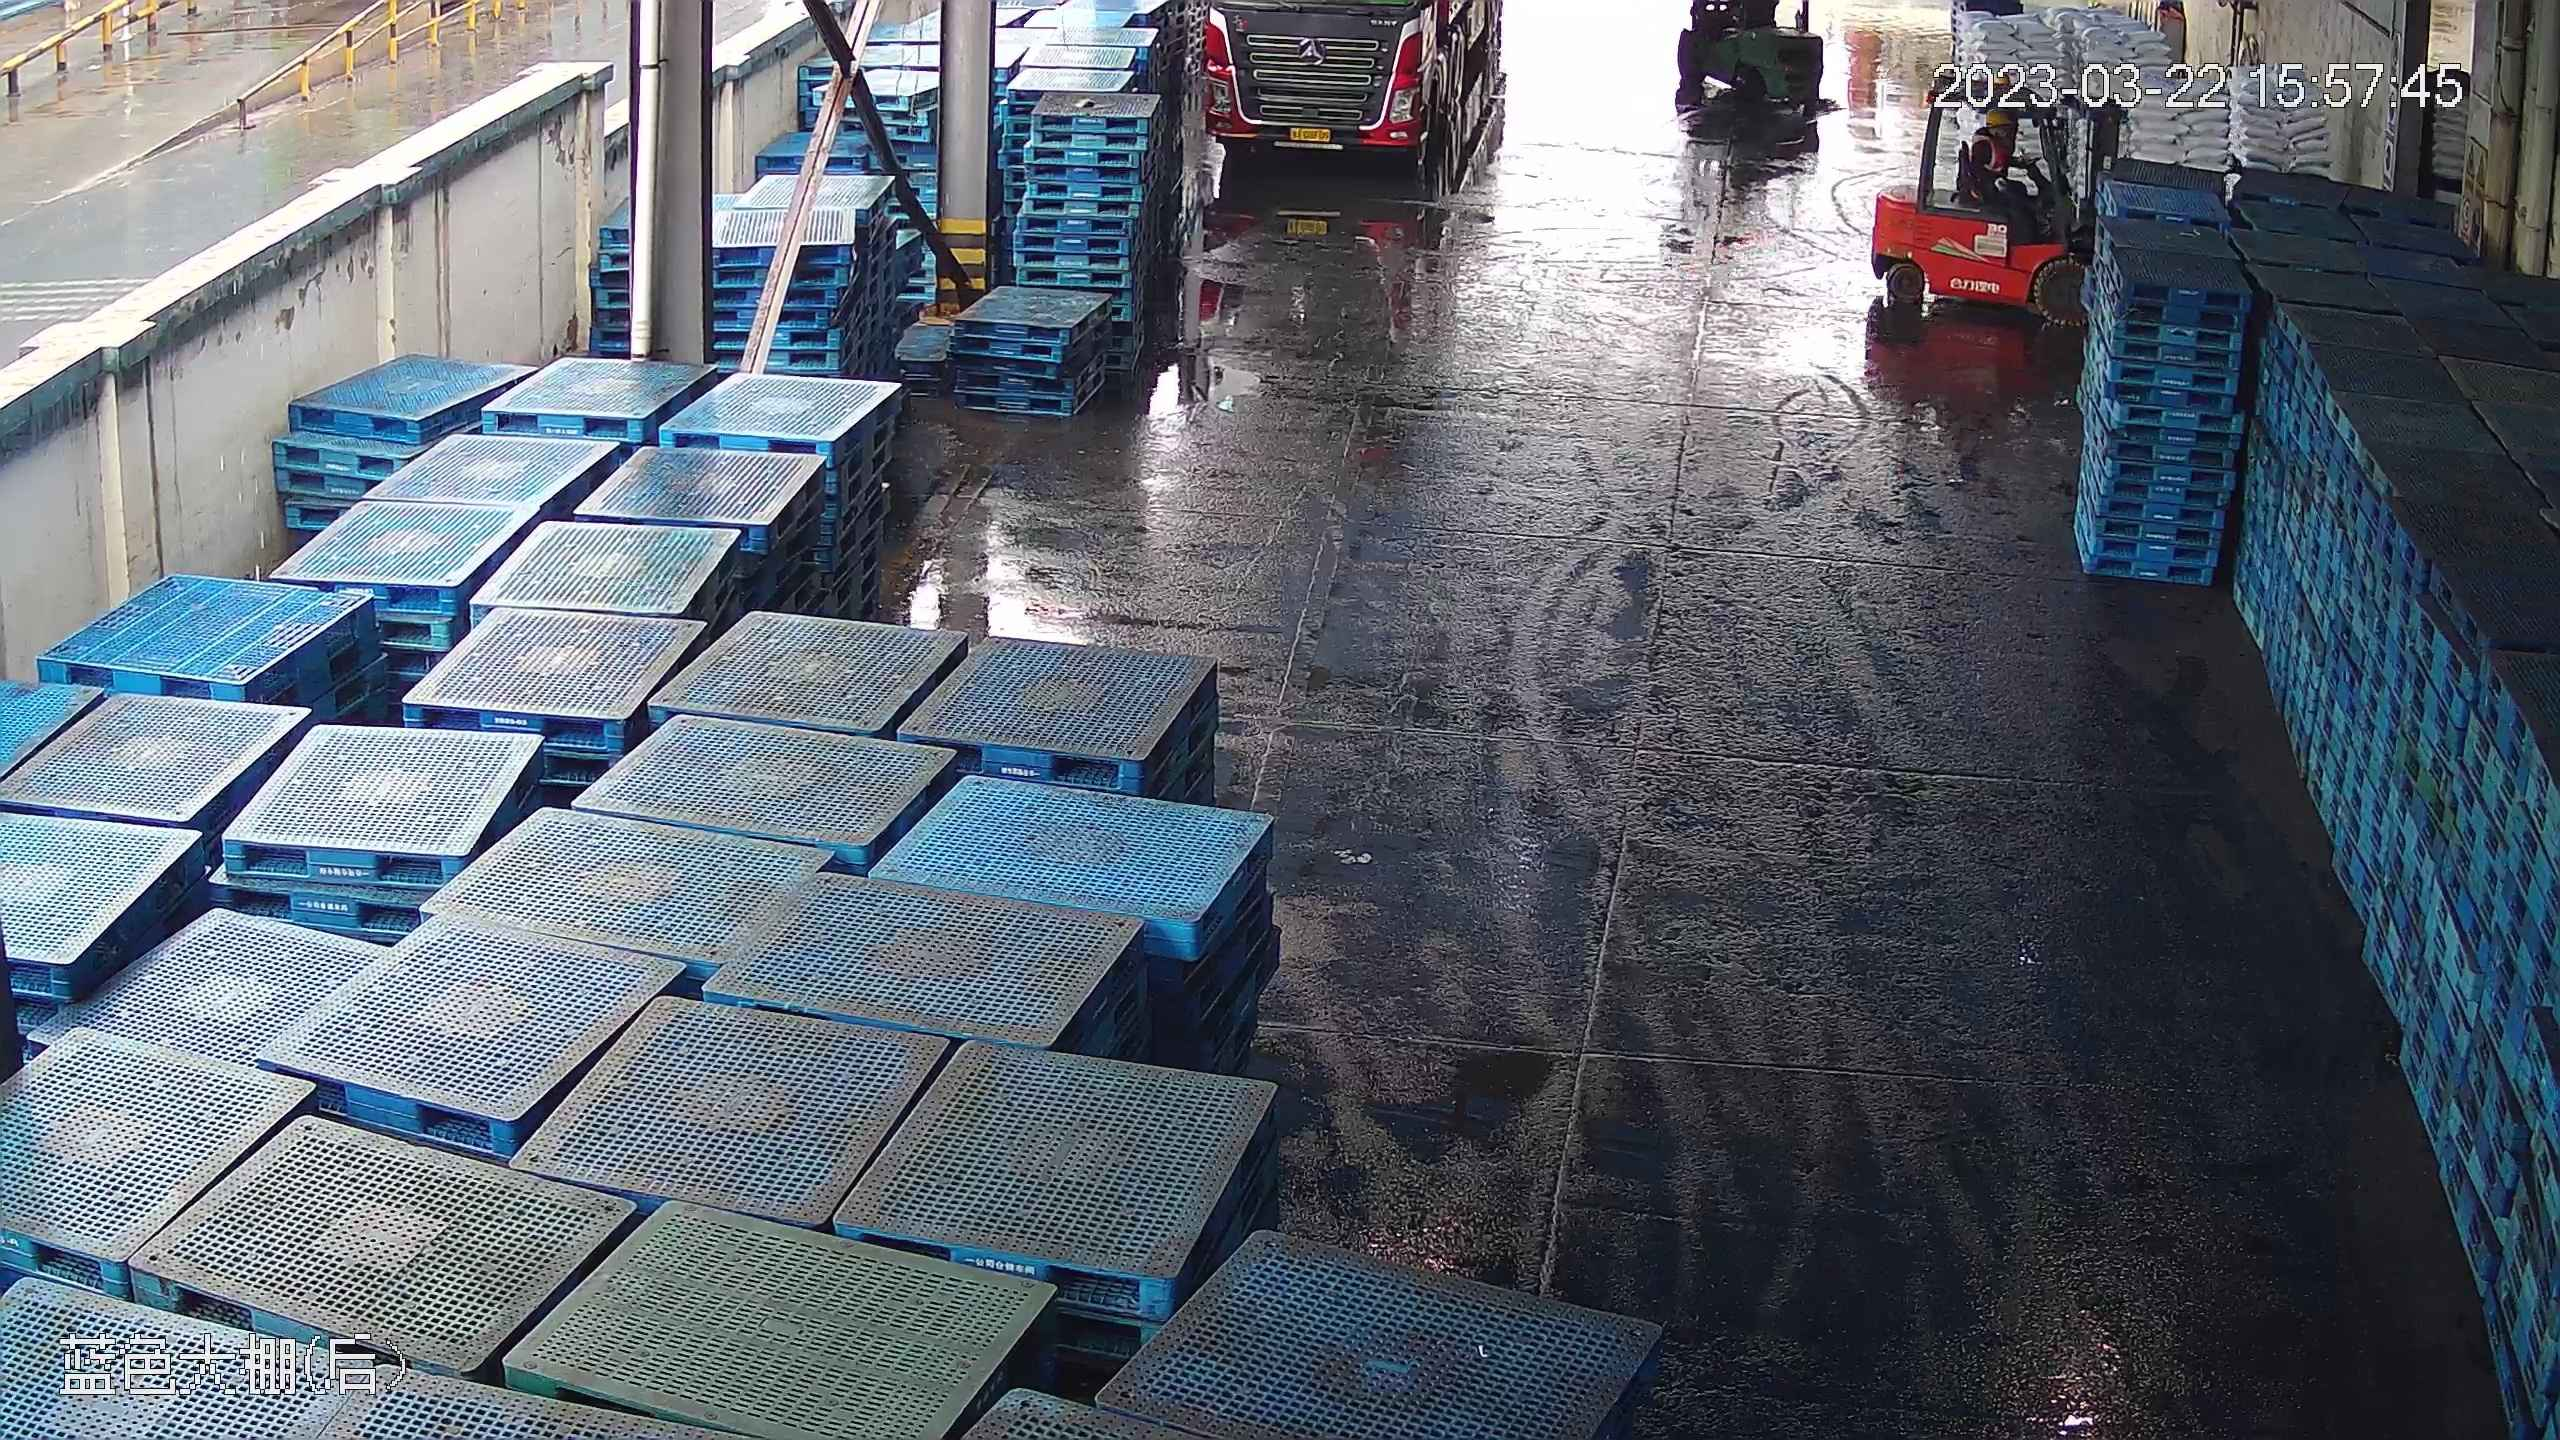head: (1971, 107, 2019, 159)
helmet: (1982, 101, 2015, 127)
people: (1962, 101, 2051, 224)
truck: (1198, 6, 1513, 195)
